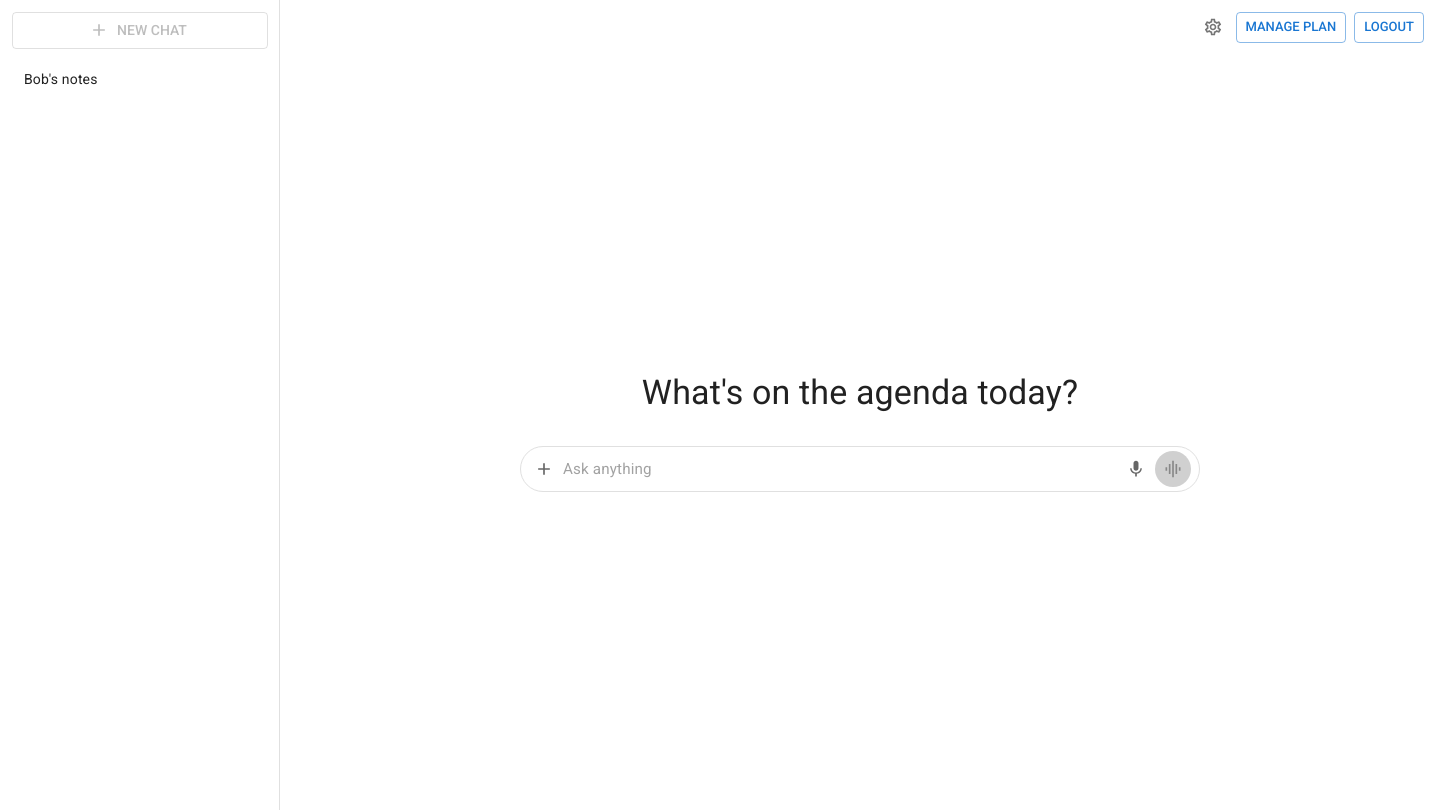
Scenario: still signs out on the server when the user chooses to
Click the button "Logout" at (1389, 27), box [1354,12,1424,43]
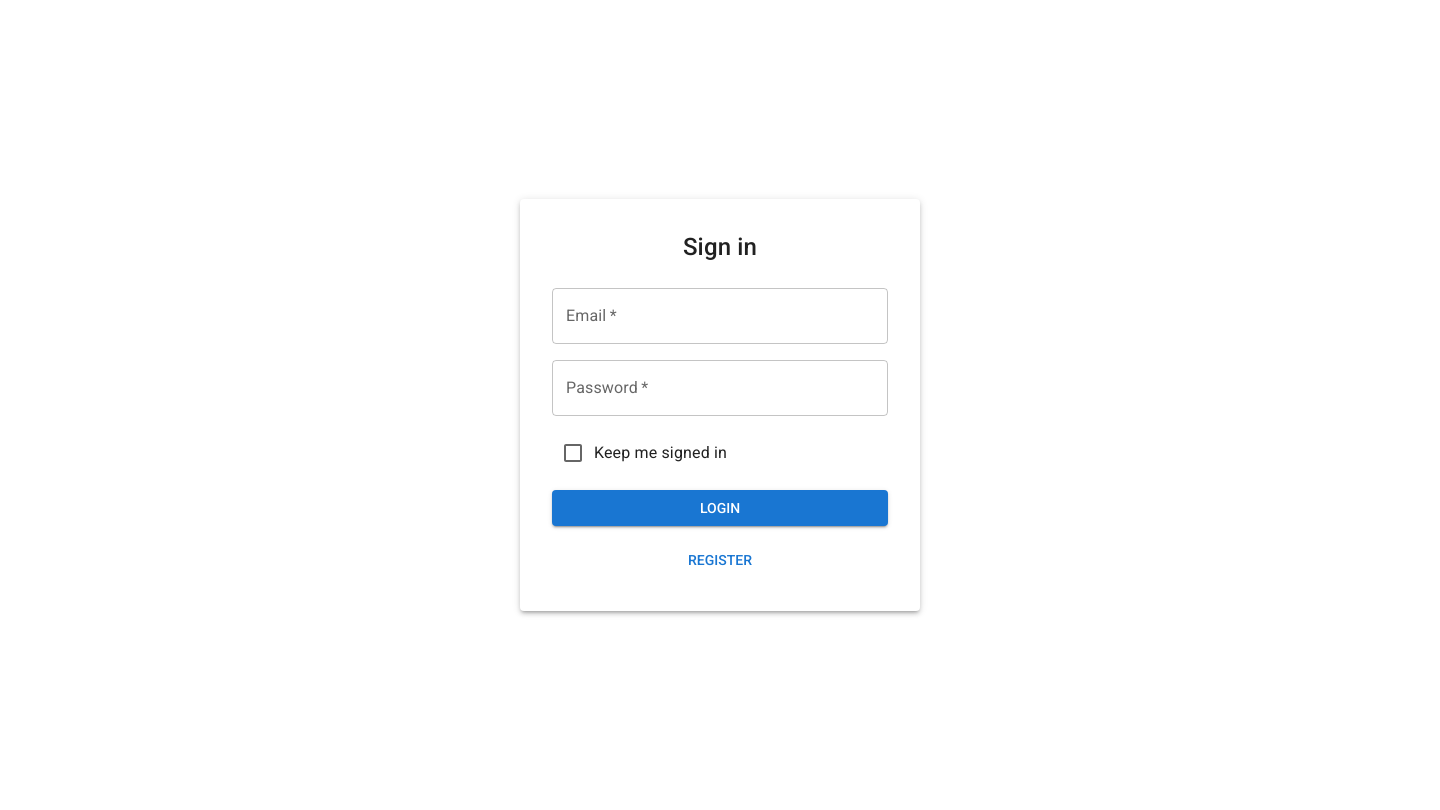
Expected: the password field labelled "Password *" is shown, [552,360,888,416]
